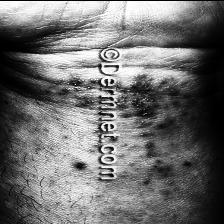Non-Cancerous Skin Condition: (122, 52, 212, 190), (35, 76, 95, 224)
